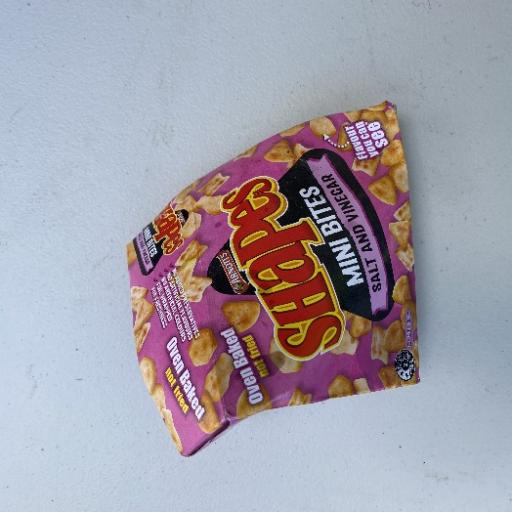Cardboard: (124, 99, 422, 457)
